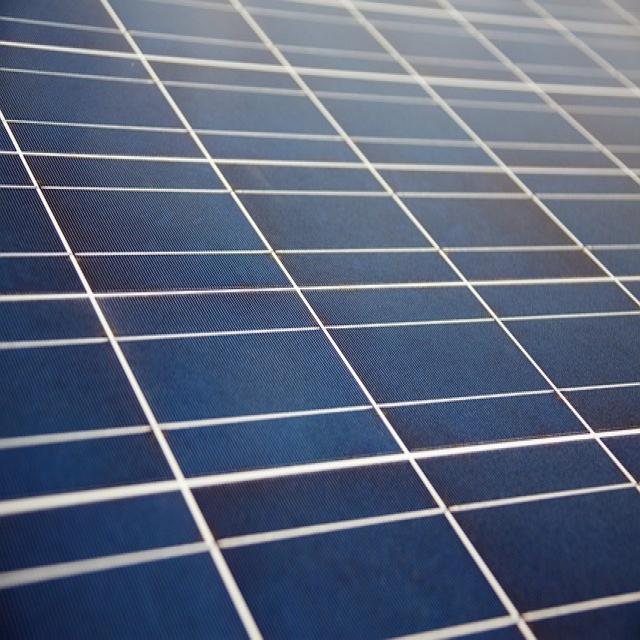clean-solar-panel: (1, 4, 640, 637)
